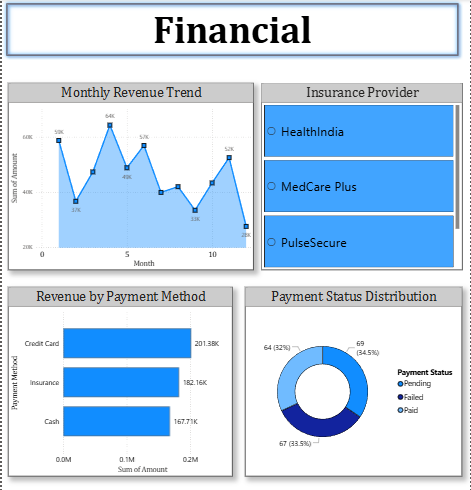

What the dashboard file says about the page in this screenshot:
{"tool":"powerbi","page":{"name":"Financial Analytics","canvas":[1000,1156],"ordinal":3},"visuals":[{"type":"donutChart","title":"Payment Status Distribution","fields":{"Category":["master_healthcare_dataset.payment_status"],"Y":["CountNonNull(master_healthcare_dataset.bill_id)"]},"box":[519.3,613.2,462.9,404.1],"z":0},{"type":"clusteredBarChart","title":"Revenue by Payment Method","fields":{"Category":["master_healthcare_dataset.payment_method"],"Y":["Sum(master_healthcare_dataset.amount)"]},"box":[11.7,613.2,479.3,404.1],"z":1000},{"type":"lineChart","title":"Monthly Revenue Trend","fields":{"Category":["master_healthcare_dataset.month"],"Y":["Sum(master_healthcare_dataset.amount)"]},"box":[11.7,178.6,524,399.4],"z":2000},{"type":"actionButton","box":[0,0,982.8,130.2],"z":3000},{"type":"advancedSlicerVisual","title":"Insurance Provider","fields":{"Values":["master_healthcare_dataset.insurance_provider"]},"box":[552.2,178.6,430,399.4],"z":4000}]}

Visuals, with their boxes on the page's 1000x1156 design canvas (x1, y1, x2, y2). These are canvas units, not pixel positions in the 471x490 screenshot, which may show the page scaled, cropped or inside an application window:
"Payment Status Distribution" donutChart: (x1=519, y1=613, x2=982, y2=1017)
"Revenue by Payment Method" clusteredBarChart: (x1=12, y1=613, x2=491, y2=1017)
"Monthly Revenue Trend" lineChart: (x1=12, y1=179, x2=536, y2=578)
actionButton: (x1=0, y1=0, x2=983, y2=130)
"Insurance Provider" advancedSlicerVisual: (x1=552, y1=179, x2=982, y2=578)
